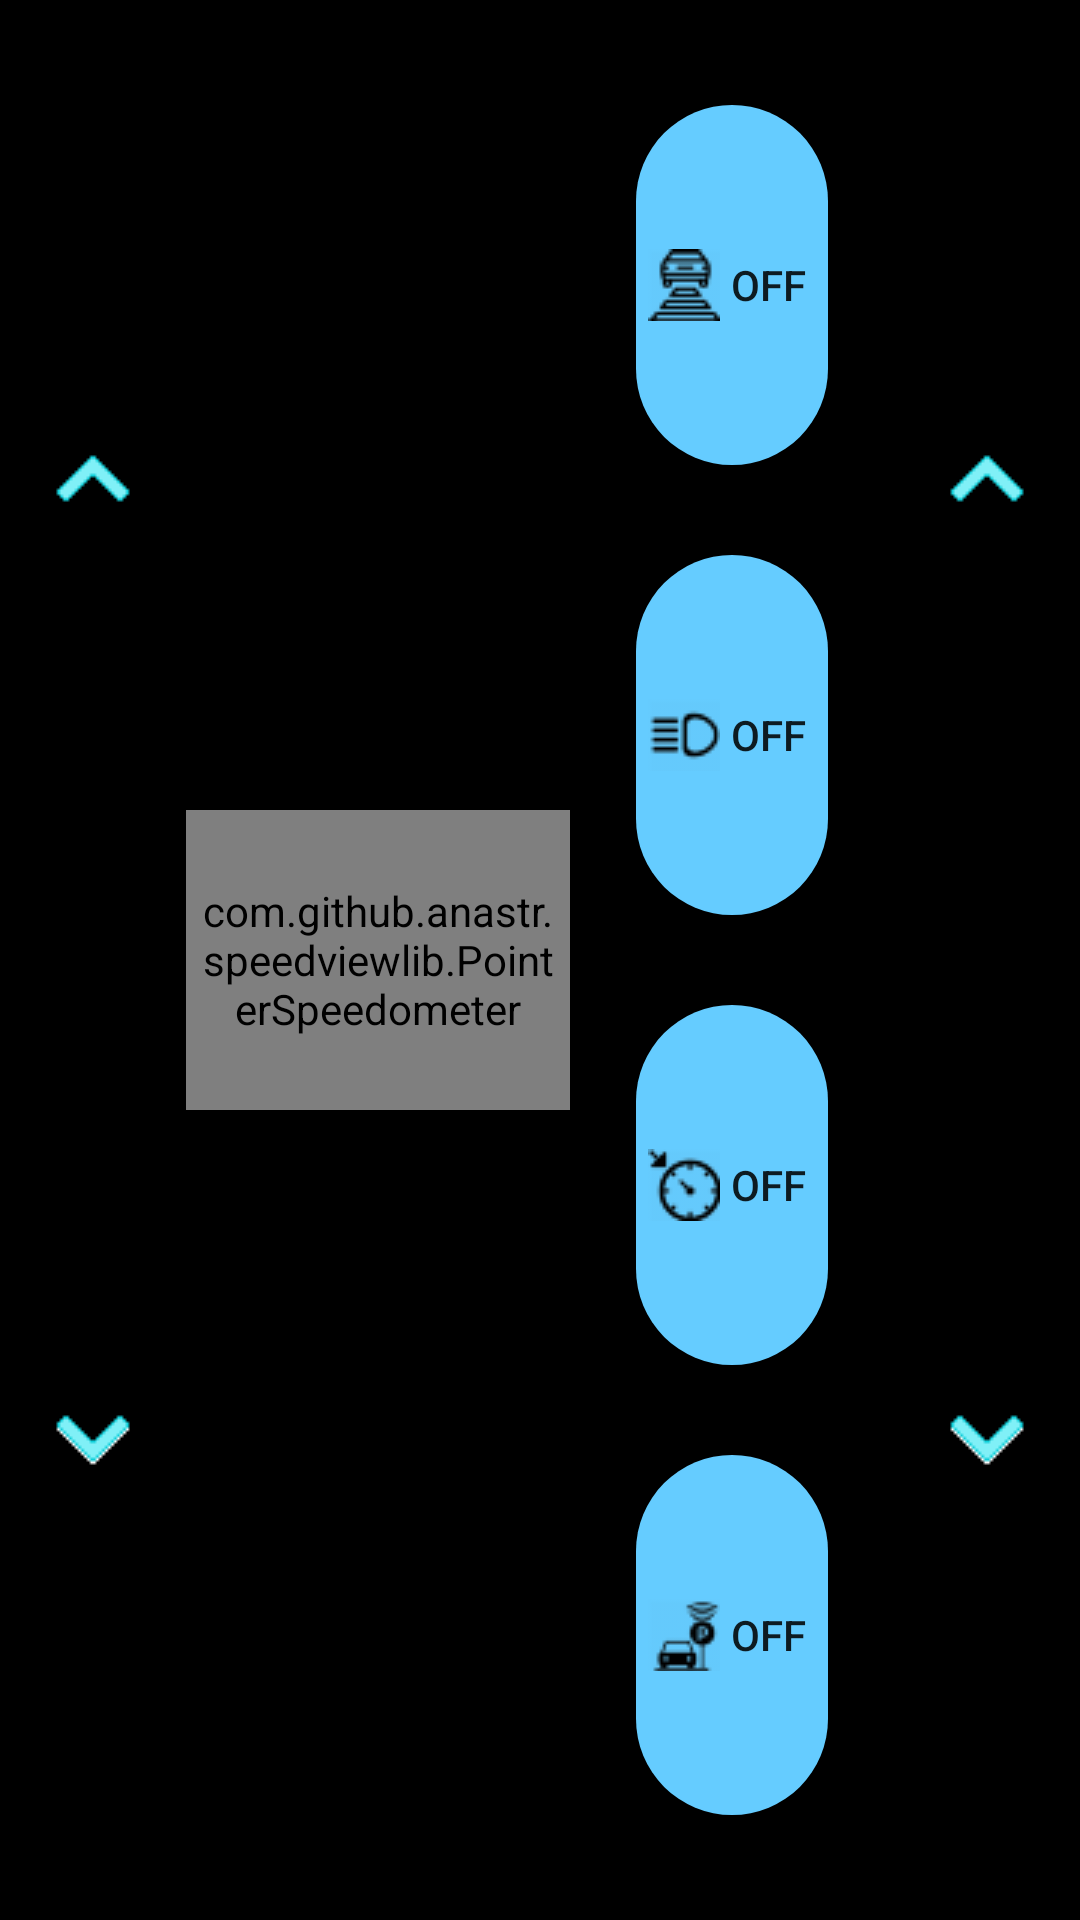

Named icons in this screenshot (1080px×1920px) and their centers, point (x, y):
keyboard arrow down: point (93, 1440), point (987, 1440)
keyboard arrow up: point (93, 478), point (987, 478)
